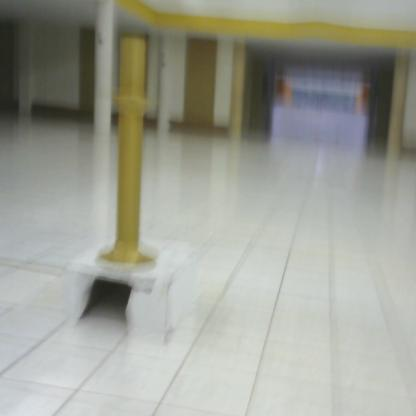pole: (94, 31, 171, 274)
